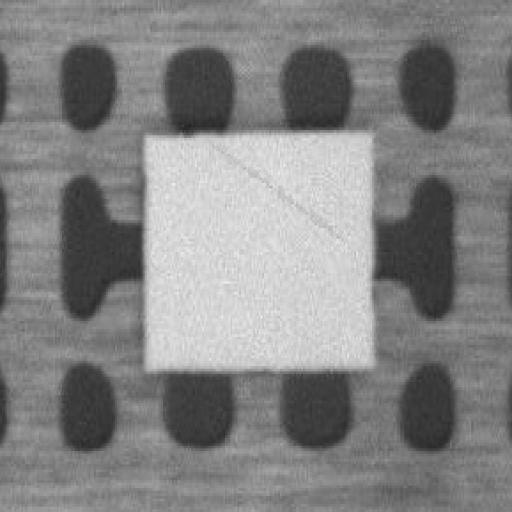DIE_CRACK: (318, 96, 507, 156)
